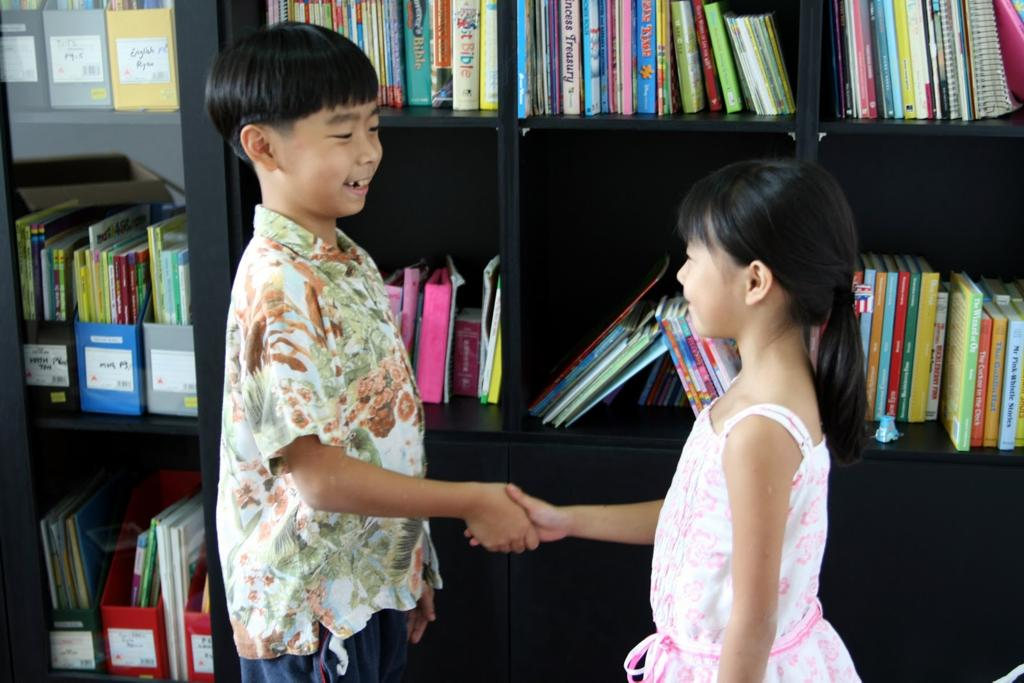face: (292, 64, 384, 214), (676, 202, 746, 340)
